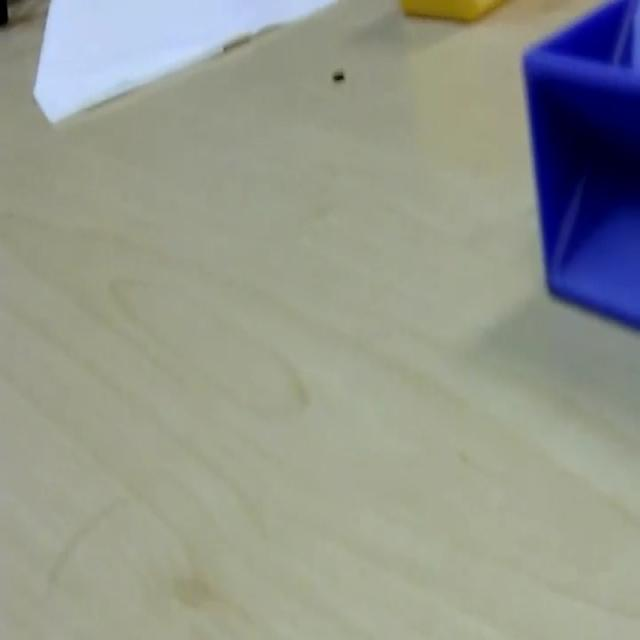blue_block: (519, 0, 638, 329)
yellow_block: (399, 0, 507, 23)
